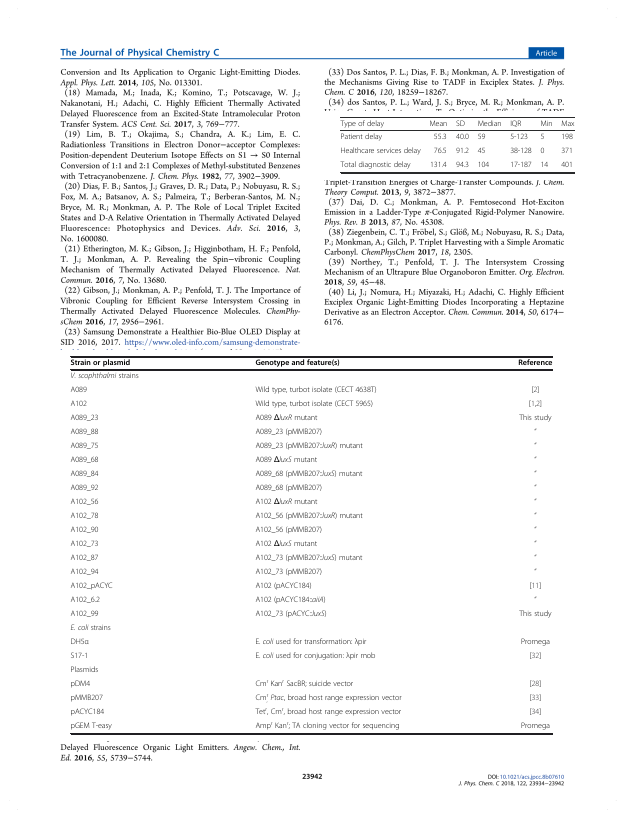borderless: (69, 355, 552, 733), (339, 116, 574, 172)
cell: (254, 692, 402, 704), (254, 706, 402, 718), (254, 720, 400, 732), (254, 386, 377, 396), (254, 652, 376, 662), (254, 400, 374, 410), (254, 678, 354, 690), (254, 638, 367, 648), (254, 442, 364, 452), (254, 512, 364, 522), (254, 470, 363, 480), (254, 554, 363, 564), (340, 147, 422, 157), (254, 359, 341, 368), (254, 610, 327, 620), (254, 596, 326, 606), (340, 161, 412, 171), (70, 372, 140, 382), (254, 428, 323, 438), (254, 484, 323, 494), (254, 526, 323, 536), (254, 568, 323, 578), (254, 414, 318, 424), (254, 456, 318, 466), (254, 498, 318, 508), (254, 540, 318, 550), (254, 582, 312, 592), (70, 359, 131, 368), (70, 582, 114, 592), (70, 722, 113, 732), (340, 133, 383, 143), (70, 624, 112, 634), (340, 120, 385, 129), (70, 708, 105, 718), (518, 414, 552, 424), (518, 610, 552, 620), (70, 694, 104, 704), (517, 359, 553, 368), (70, 596, 101, 606), (520, 638, 551, 648), (520, 722, 551, 732), (70, 414, 99, 424), (70, 428, 99, 438), (70, 442, 99, 452), (70, 456, 99, 466), (70, 470, 99, 480), (70, 484, 99, 494), (70, 498, 99, 508), (70, 512, 99, 522), (70, 526, 99, 536), (70, 540, 99, 550), (70, 554, 99, 564), (70, 568, 99, 578), (70, 610, 99, 620), (70, 666, 99, 676), (509, 147, 533, 157), (509, 161, 533, 171), (477, 120, 502, 129), (70, 680, 91, 690), (70, 638, 90, 648), (509, 133, 529, 143), (70, 652, 89, 662), (429, 161, 448, 171), (70, 386, 88, 396), (70, 400, 88, 410), (428, 120, 448, 129), (528, 400, 543, 410), (433, 133, 448, 143), (455, 133, 470, 143), (433, 147, 448, 157), (455, 147, 470, 157), (455, 161, 470, 171), (528, 582, 542, 592), (528, 652, 542, 662), (528, 680, 542, 690), (528, 694, 542, 704), (528, 708, 542, 718), (560, 133, 574, 143), (560, 147, 574, 157), (560, 161, 574, 171), (560, 120, 575, 129), (477, 161, 490, 171), (539, 120, 553, 129), (509, 120, 522, 129), (530, 386, 540, 396), (539, 161, 549, 171), (455, 120, 466, 129), (477, 133, 486, 143), (477, 147, 486, 157), (539, 133, 545, 143), (539, 147, 545, 157), (533, 428, 537, 436), (533, 442, 537, 450), (533, 456, 537, 464), (533, 470, 537, 478), (533, 484, 537, 492), (533, 498, 537, 506), (533, 512, 537, 520), (533, 526, 537, 534), (533, 540, 537, 548), (533, 554, 537, 562), (533, 568, 537, 576), (533, 596, 537, 604)
